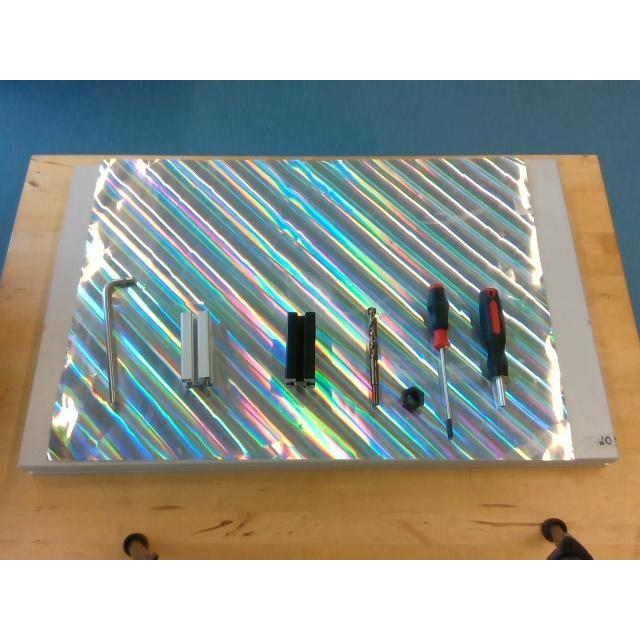AllenKey: (104, 276, 136, 412)
Drill: (365, 308, 379, 404)
M20: (401, 386, 424, 410)
S40_40_B: (284, 311, 316, 385)
S40_40_G: (178, 311, 212, 387)
